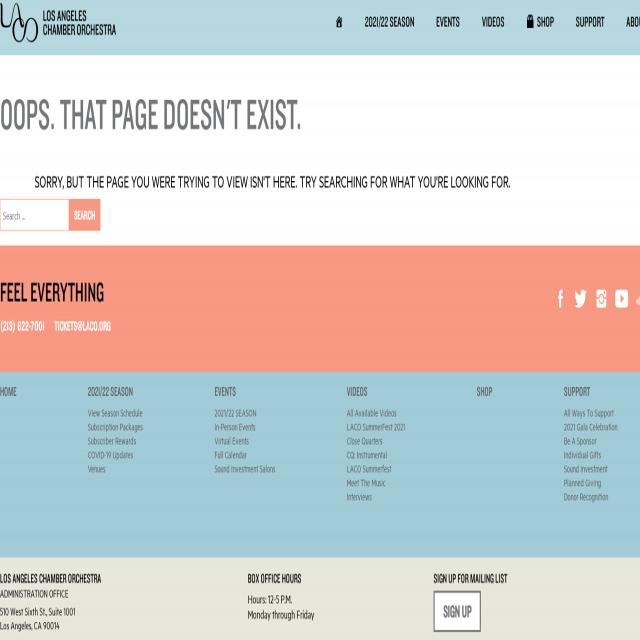button: (0, 0, 118, 55), (360, 0, 419, 37), (434, 592, 481, 632), (521, 0, 559, 37), (571, 0, 609, 37), (69, 199, 101, 231), (330, 0, 348, 37), (574, 287, 588, 311), (594, 287, 608, 311), (554, 287, 567, 311)
field: (0, 199, 70, 230)
